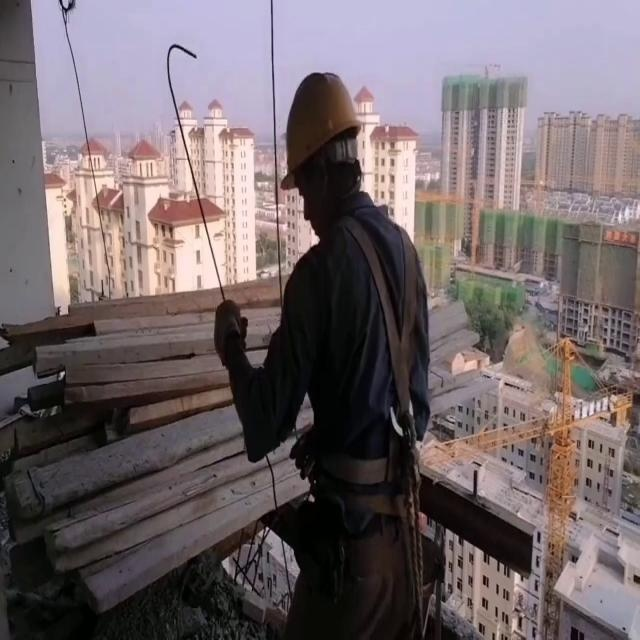Arnes_seguridad: (309, 204, 431, 498)
